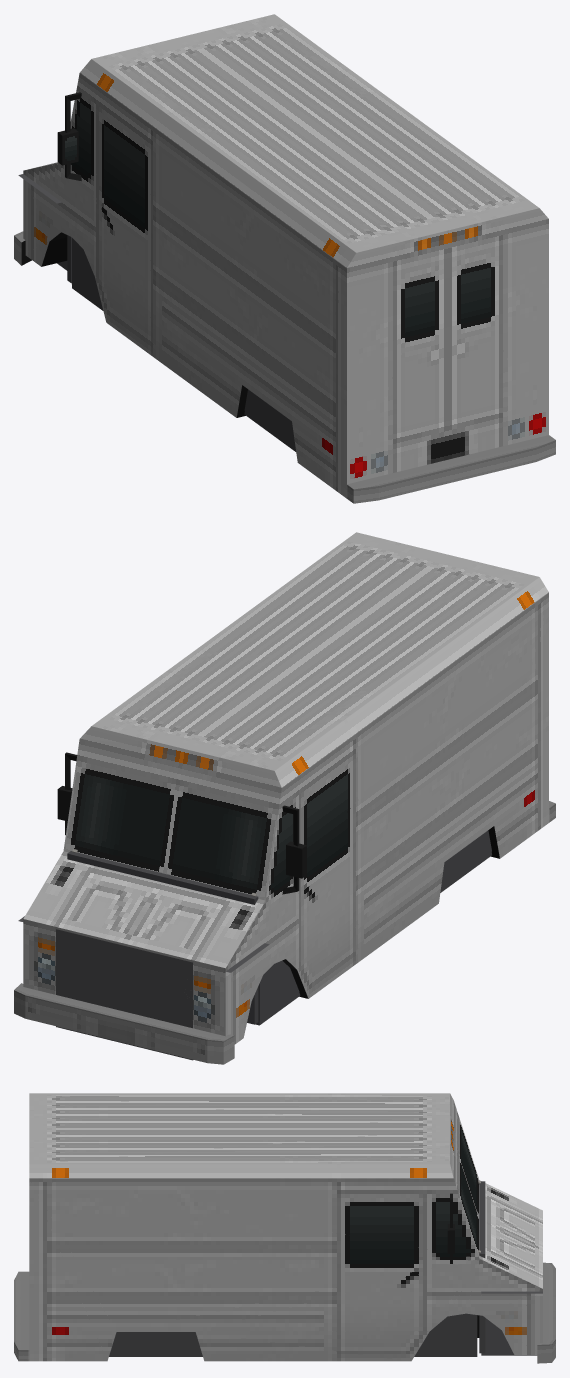
Rendered from stepvan.glb.
The picture shows the model from 3 angles, top to bottom: view 1: azimuth 30°, elevation 25°; view 2: azimuth 150°, elevation 25°; view 3: azimuth 270°, elevation 25°; orthographic projection. The views are drawn at different scales.
Visible parts, largest first — view 1: body, interior; view 2: body, hood, bay, interior; view 3: body, interior, hood, bay.
Boxes of the visible parts, x1,y1,x2,y2 form: body: [14, 14, 555, 503]; interior: [67, 235, 296, 451]; body: [14, 532, 555, 1064]; hood: [23, 851, 265, 968]; bay: [18, 916, 269, 1060]; interior: [67, 830, 491, 1025]; body: [14, 1093, 555, 1363]; interior: [109, 1180, 485, 1356]; hood: [479, 1180, 542, 1288]; bay: [481, 1291, 542, 1355].
Bounding box in the file's own units: 2.32 × 2.28 × 5.6.
8 materials, 1 textured.
